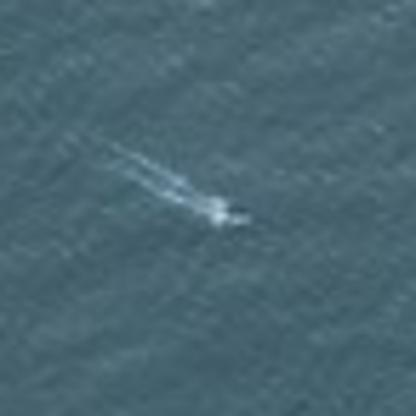ship: (203, 192, 257, 233)
